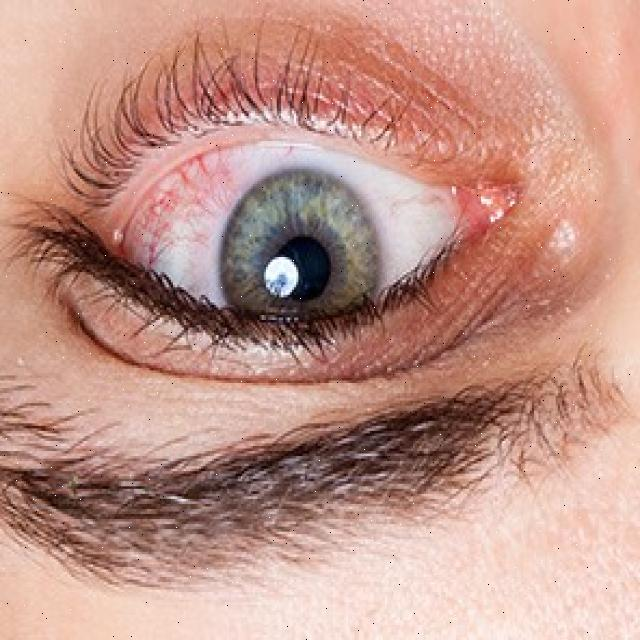Normal: (220, 165, 381, 361)
